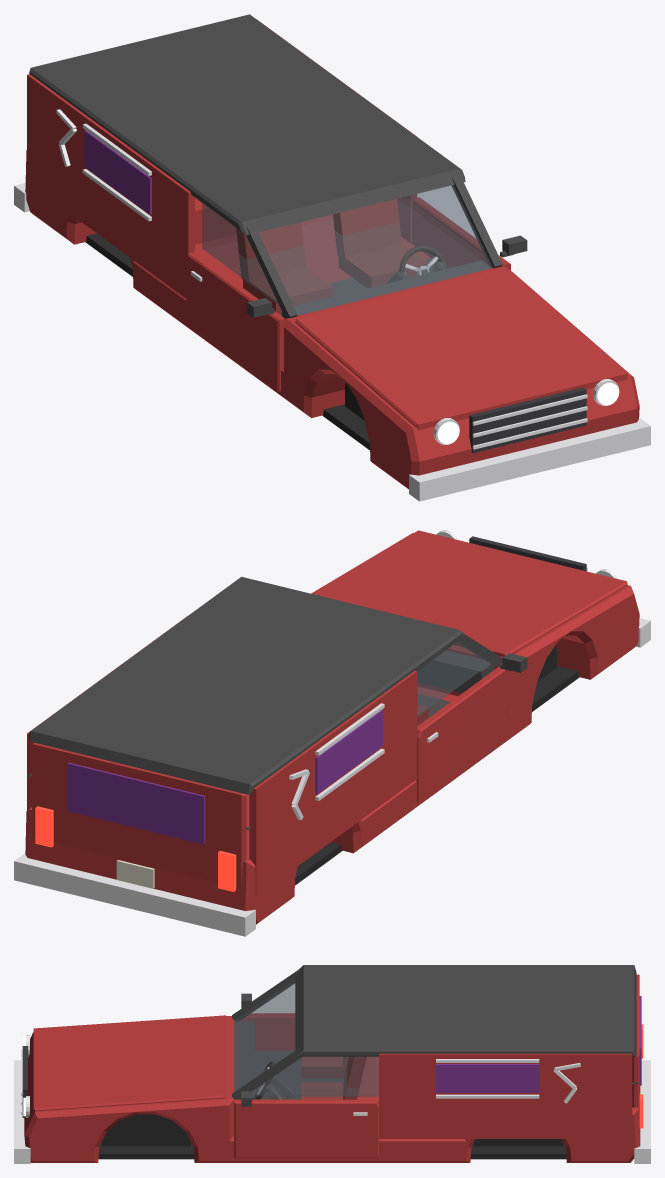
The model's file is car_hearse.glb.
3 renders of one model, top to bottom at view 1: azimuth 30°, elevation 25°; view 2: azimuth 150°, elevation 25°; view 3: azimuth 270°, elevation 25°, orthographic. The views are drawn at different scales.
Visible parts, largest first — view 1: Roof, Hood, Body, Cabin_Glass, Coach_Walls, Door_R, Bumper_F, Seat_L, Seat_R, Grille, Door_L, Pillars (+5 smaller); view 2: Roof, Hood, Body, Coach_Walls, Trunk, Door_R, Liftgate_Window, Bumper_R, Cabin_Glass, Coach_Curtains, Dashboard, Underbody (+5 smaller); view 3: Roof, Coach_Walls, Hood, Body, Cabin_Glass, Door_L, Coach_Curtains, Underbody, WheelWell_F, Door_R, Seat_L, Pillars (+9 smaller).
Part boxes in pixels (x1,y1,x2,y2): Roof: (29, 14, 465, 235); Hood: (295, 267, 627, 430); Body: (25, 149, 639, 489); Cabin_Glass: (202, 185, 492, 315); Coach_Walls: (27, 19, 416, 298); Door_R: (186, 252, 285, 391); Bumper_F: (409, 418, 650, 501); Seat_L: (333, 199, 427, 287); Seat_R: (236, 222, 332, 314); Grille: (469, 387, 586, 453); Door_L: (412, 197, 510, 270); Pillars: (246, 175, 502, 318); Roof: (29, 576, 465, 794); Hood: (312, 530, 627, 656); Body: (25, 532, 639, 924); Coach_Walls: (27, 617, 417, 896); Trunk: (32, 742, 246, 888); Door_R: (416, 666, 510, 802); Liftgate_Window: (67, 762, 205, 844); Bumper_R: (14, 853, 255, 936); Cabin_Glass: (417, 642, 490, 716); Coach_Curtains: (315, 710, 383, 793); Dashboard: (417, 650, 494, 693); Underbody: (295, 666, 579, 885); Roof: (295, 965, 636, 1056); Coach_Walls: (379, 1053, 632, 1138); Hood: (33, 1015, 225, 1112); Body: (24, 1016, 640, 1162); Cabin_Glass: (234, 980, 378, 1096); Door_L: (234, 1099, 378, 1158); Coach_Curtains: (436, 1064, 539, 1092); Underbody: (98, 1142, 566, 1159); WheelWell_F: (101, 1114, 190, 1146); Door_R: (241, 1013, 294, 1050); Seat_L: (301, 1056, 366, 1099); Pillars: (232, 969, 302, 1099).
Bounding box in the file's own units: 2.4 × 1.23 × 6.16.
